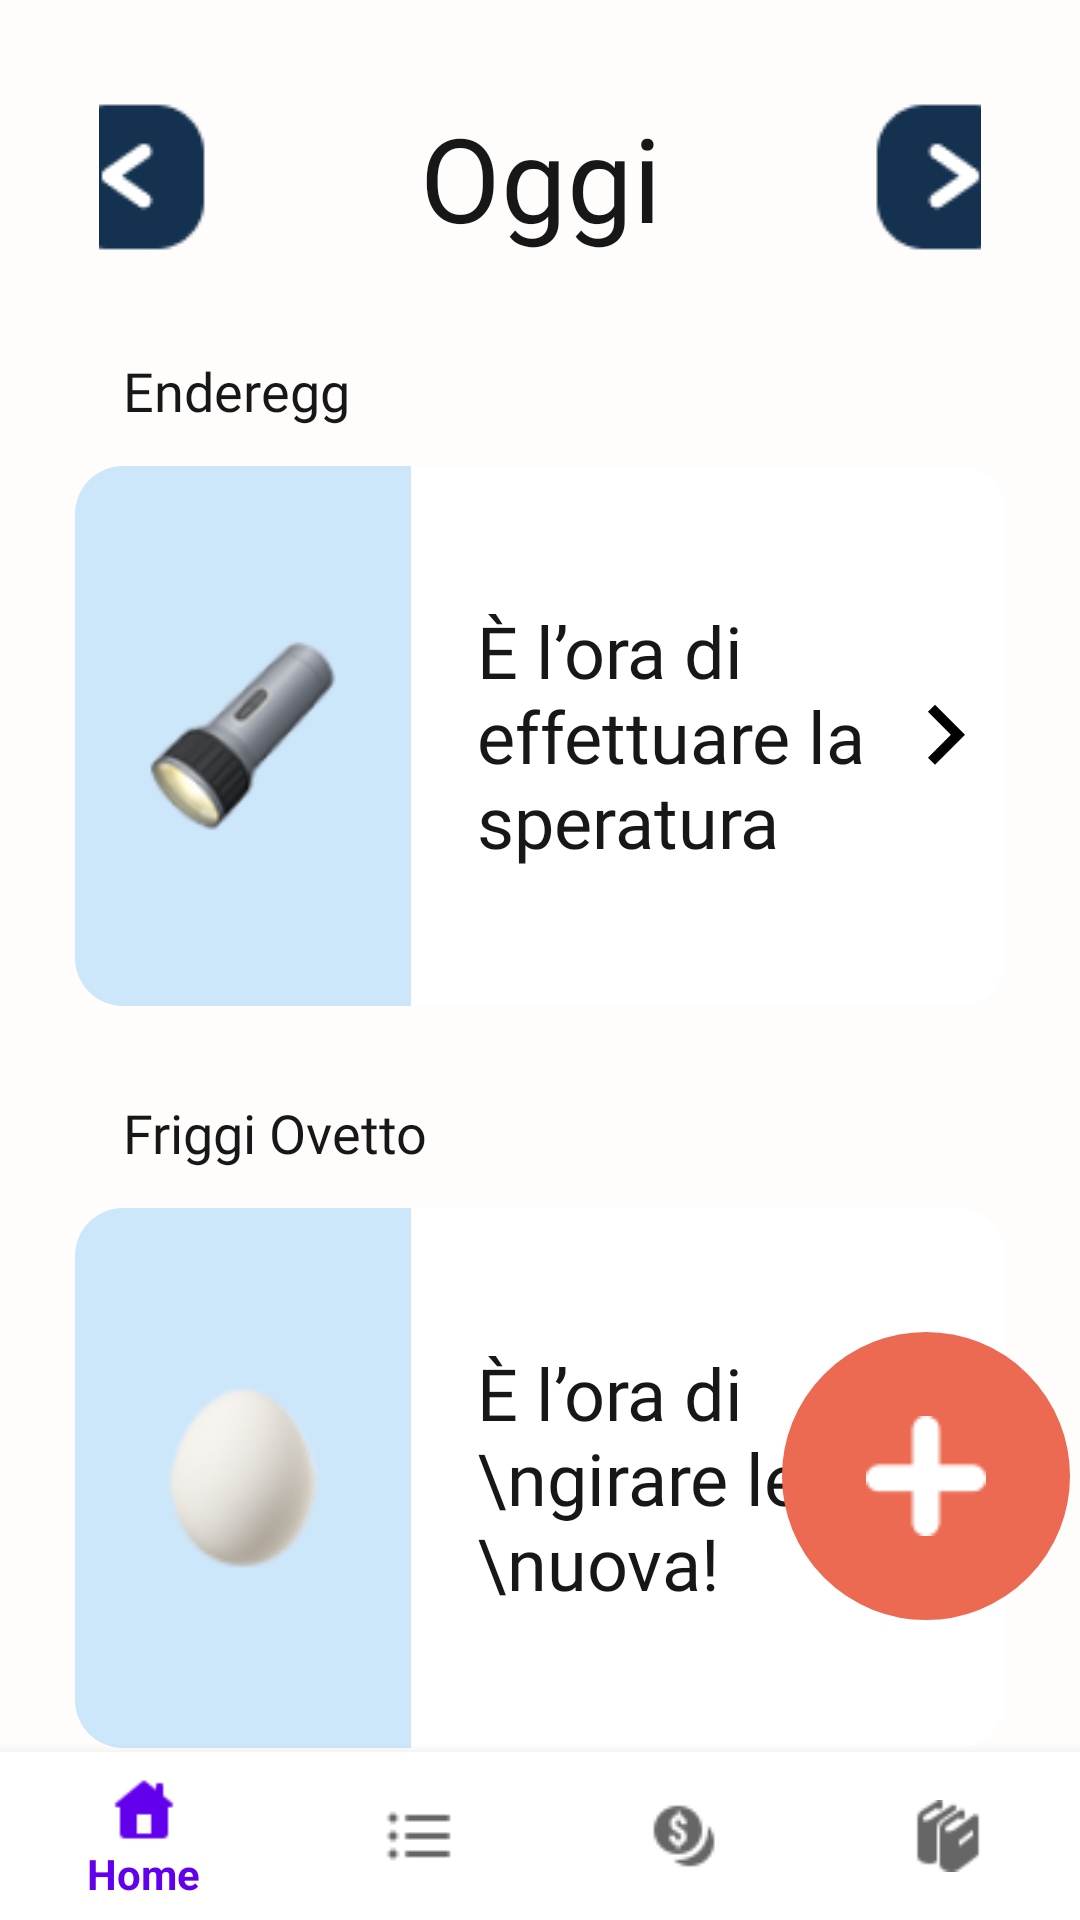

Icon bounding boxes for this 1080w x 1920h phone screenshot, format [left=x1, top=y1, right=x2, bottom=y2]:
torcia home: [left=150, top=642, right=335, bottom=830]
